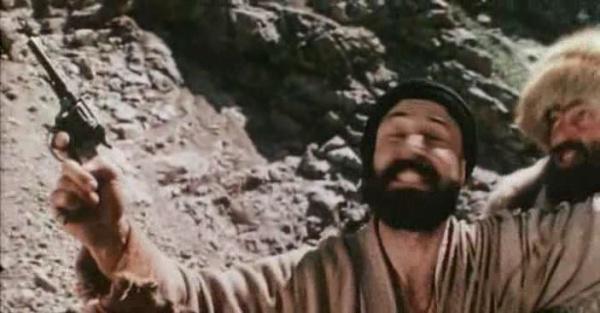Gun: (26, 39, 113, 165)
